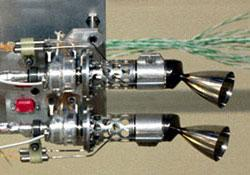thruster: (184, 66, 236, 108), (185, 122, 232, 163)
